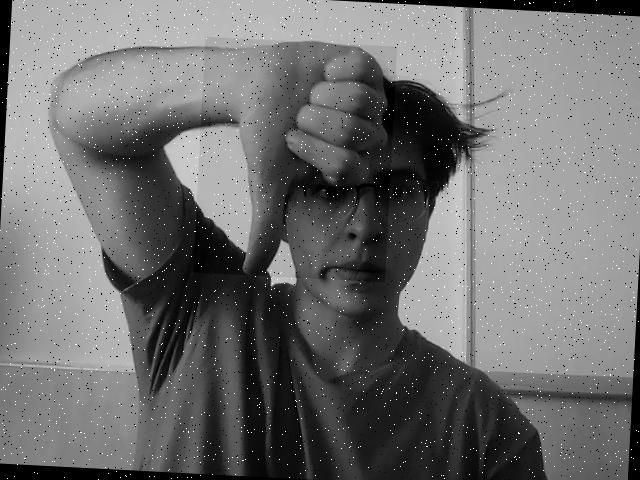bad: (206, 43, 393, 275)
